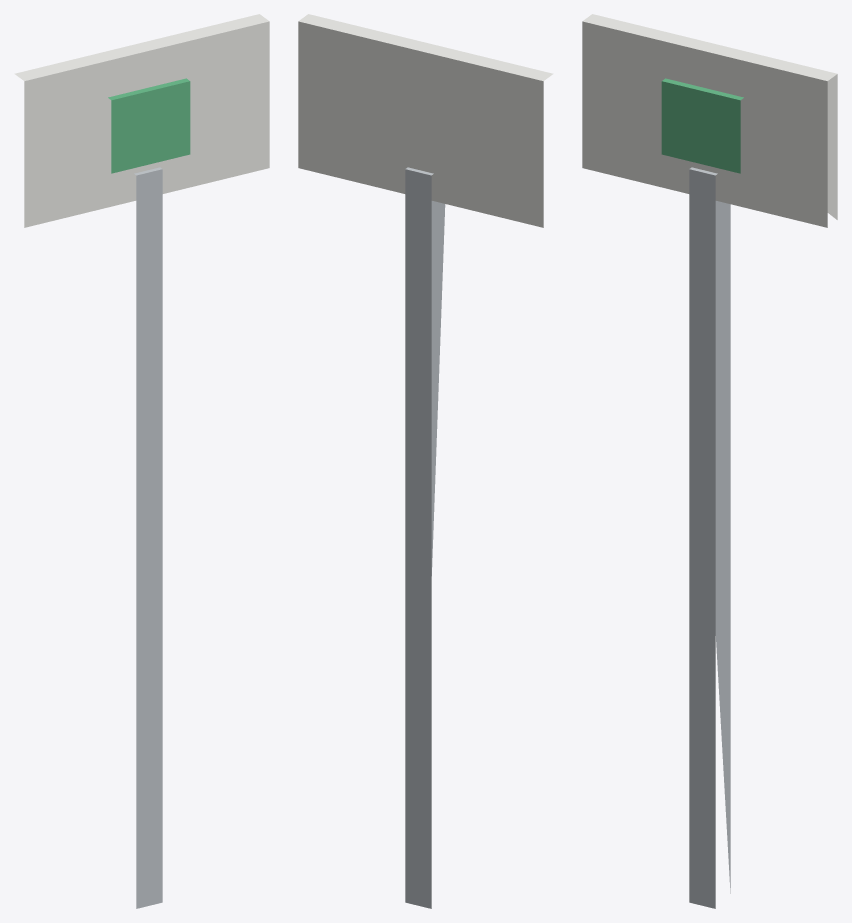
The model's file is first-aid-sign.glb.
3 renders of one model, left to right at view 1: azimuth 30°, elevation 25°; view 2: azimuth 150°, elevation 25°; view 3: azimuth 330°, elevation 25°, orthographic.
Bounding box in the file's own units: 0.56 × 1.86 × 0.065.
